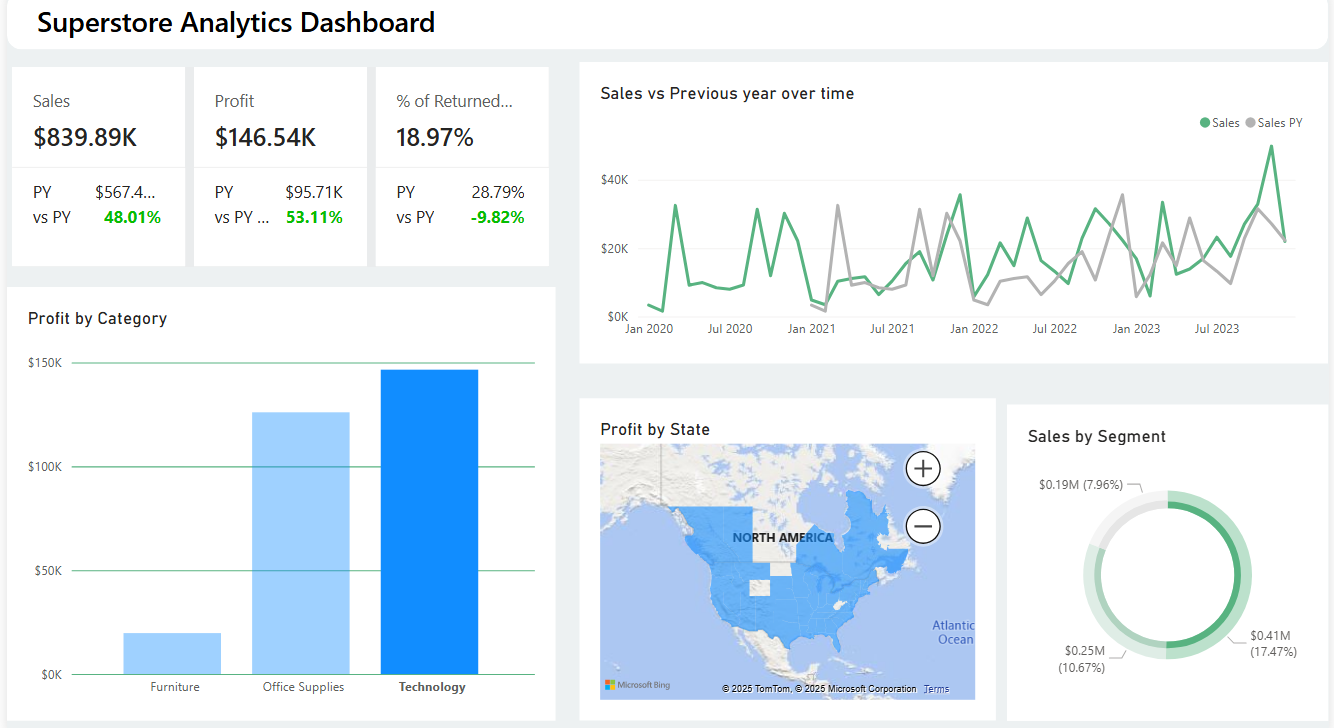

Layout of this report page (visuals, bound fields, positions):
{"tool":"powerbi","page":{"name":"Page 1","canvas":[1280,720],"ordinal":0},"visuals":[{"type":"cardVisual","fields":{"Data":["Key Measures.Sales","Key Measures.Profit","Key Measures.% of Returned Orders"]},"box":[0,67.8,531.4,203.4],"z":0},{"type":"shape","box":[0,0,1279.5,55.7],"z":1000},{"type":"lineChart","title":"Sales vs Previous year over time","fields":{"Y":["Key Measures.Sales","Key Measures.Sales PY"],"Category":["Date Table.Start of Month"]},"box":[554.4,67.8,725.1,291.7],"z":2000},{"type":"columnChart","title":"Profit by Category","fields":{"Category":["Orders.Category","Orders.Sub-Category"],"Y":["Key Measures.Profit"]},"box":[0,285.7,531.4,420],"z":3000},{"type":"filledMap","title":"Profit by State","fields":{"Category":["Orders.State/Province"]},"box":[554.4,393.4,403.1,312.3],"z":4000},{"type":"donutChart","title":"Sales by Segment","fields":{"Category":["Orders.Segment"],"Y":["Key Measures.Sales"]},"box":[968.4,399.5,311.1,306.3],"z":4001}]}

Visuals, with their boxes on the page's 1280x720 design canvas (x1, y1, x2, y2). These are canvas units, not pixel positions in the 1334x728 screenshot, which may show the page scaled, cropped or inside an application window:
cardVisual - Key Measures.Sales x Key Measures.Profit: l=0, t=68, r=531, b=271
shape: l=0, t=0, r=1280, b=56
"Sales vs Previous year over time" lineChart: l=554, t=68, r=1280, b=360
"Profit by Category" columnChart: l=0, t=286, r=531, b=706
"Profit by State" filledMap: l=554, t=393, r=958, b=706
"Sales by Segment" donutChart: l=968, t=400, r=1280, b=706
